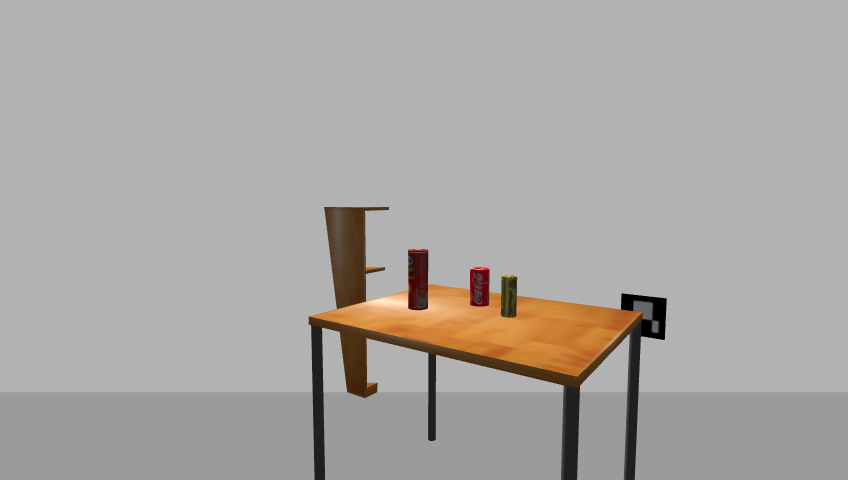aruco marker: (617, 291, 672, 342)
biscuits pack: (501, 274, 518, 319)
bookshelf: (321, 203, 393, 401)
coke can: (468, 266, 491, 308)
dinner table: (302, 288, 652, 480)
pringles can: (405, 248, 430, 312)
